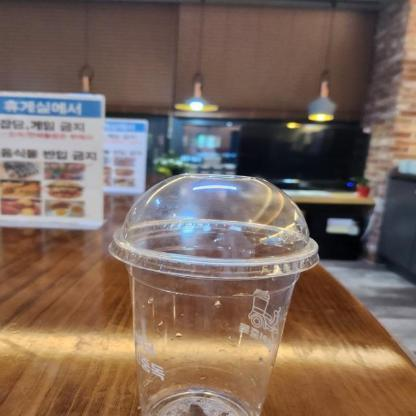Plastic Cup: (109, 174, 319, 416)
